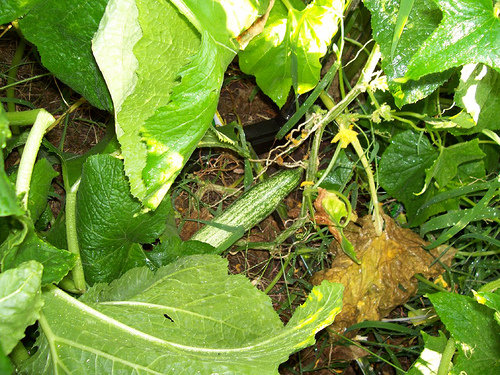cucumber: (188, 165, 307, 253)
